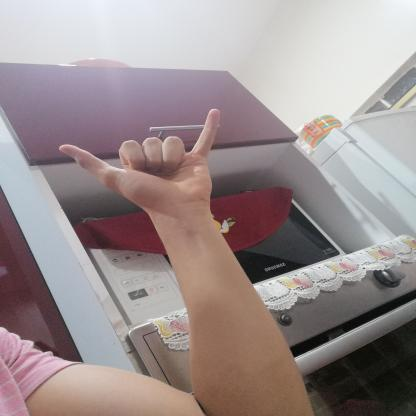YA: (41, 97, 235, 221)
